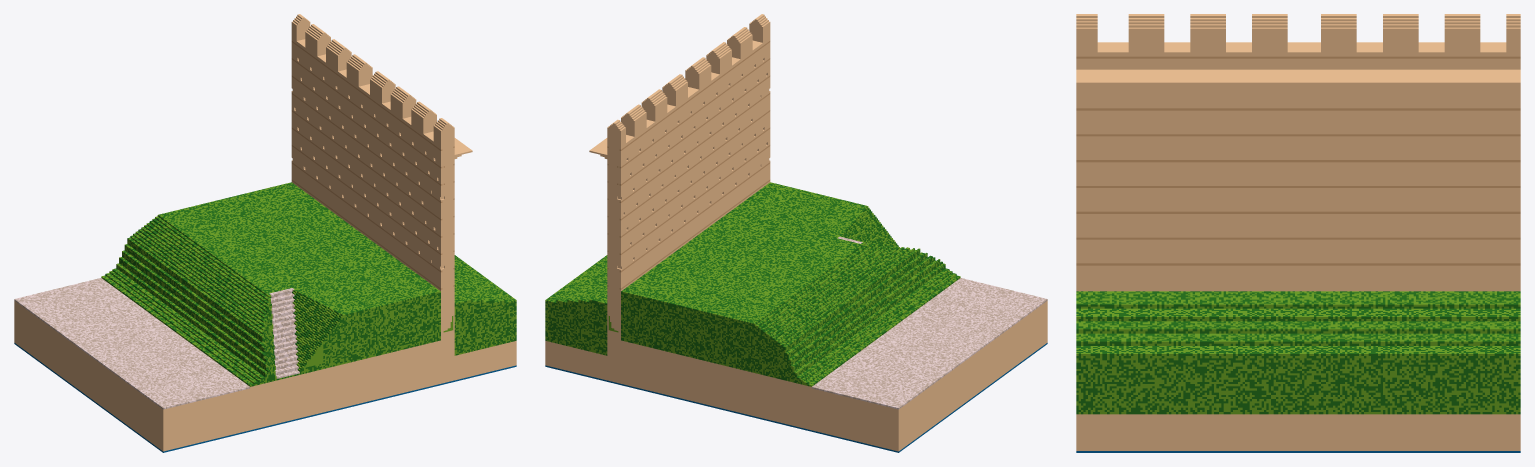
File: castelloVillafranca-11.obj
3 views of the same model, side by side, from view 1: azimuth 30°, elevation 25°; view 2: azimuth 150°, elevation 25°; view 3: azimuth 270°, elevation 25° (orthographic). The views are drawn at different scales.
Bounding box in the file's own units: 25.6 × 18 × 18.7.
1 material, 1 textured.
